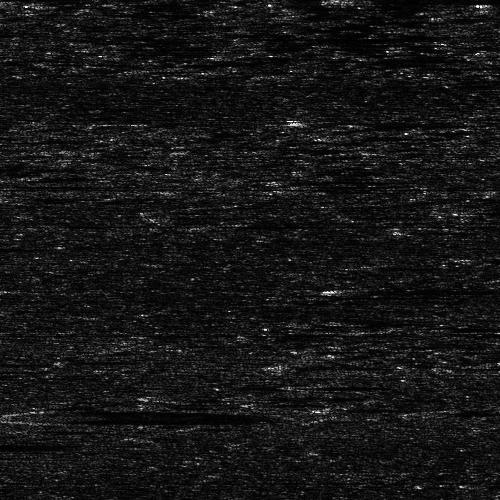object: (0, 406, 87, 421), (395, 207, 500, 216), (312, 284, 365, 293), (252, 361, 293, 370), (480, 46, 500, 57), (317, 120, 348, 125), (312, 0, 375, 1)
shadow: (30, 406, 257, 421), (338, 284, 500, 293), (333, 120, 486, 125), (273, 361, 357, 370), (457, 207, 500, 216), (344, 0, 500, 1)
